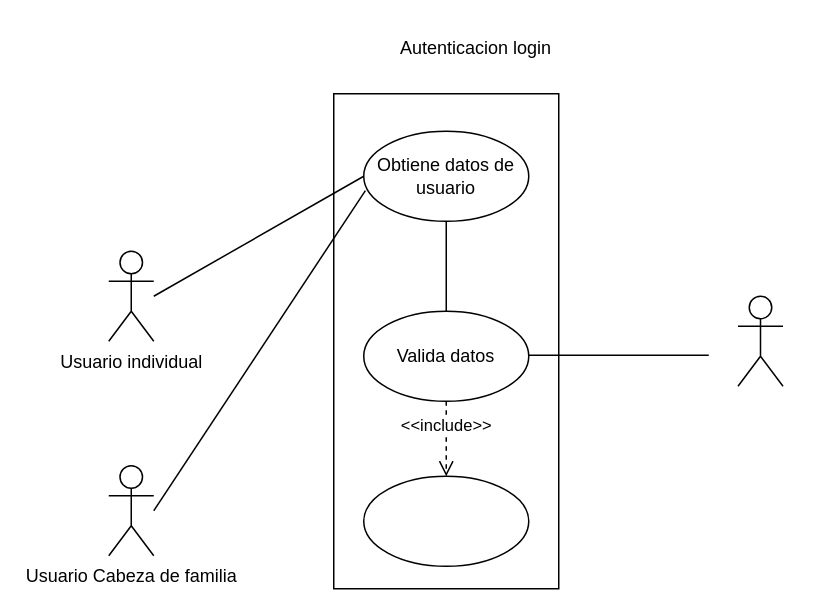
The diagram is 840 pixels wide and 615 high, and some of its shapes have lost their labels. The shapes that lost their labels are listed below. From the top down, each one's centre as x and y in pixels, then its label:
(759,340): Servidor (Bd)
(445,520): Acceso al sistema
